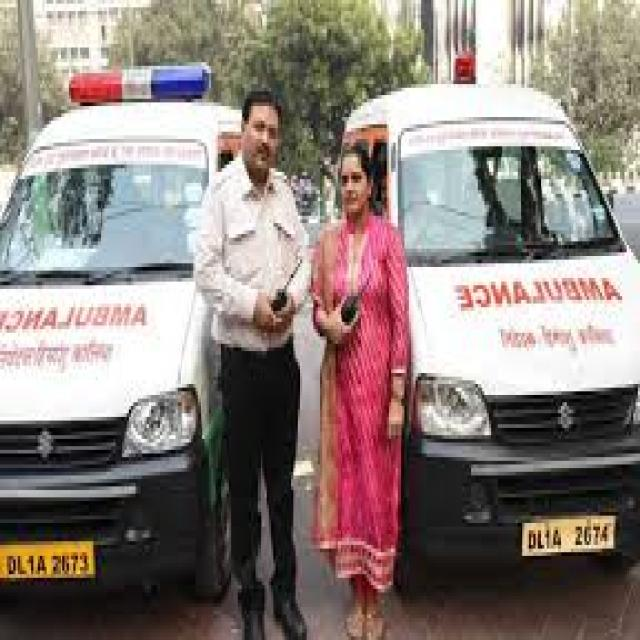Ambulance: (346, 47, 640, 596), (0, 16, 223, 612)
